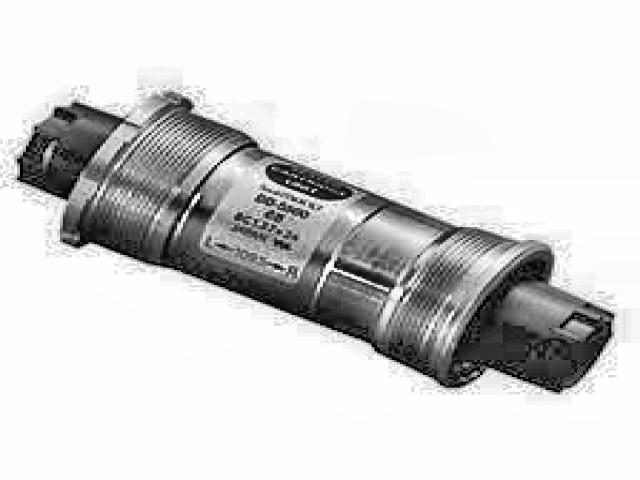bottom_bracket: (13, 83, 618, 399)
